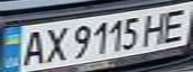1: (90, 19, 112, 55), (106, 16, 127, 52)
5: (121, 13, 145, 51)
9: (69, 21, 93, 60)
A: (15, 27, 48, 68)
E: (157, 5, 193, 44)
H: (139, 10, 172, 46)
X: (39, 24, 69, 64)
